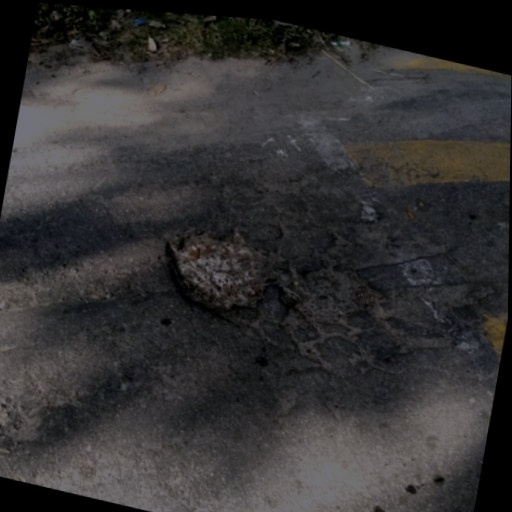pothole: (149, 212, 282, 330), (271, 250, 393, 342)
